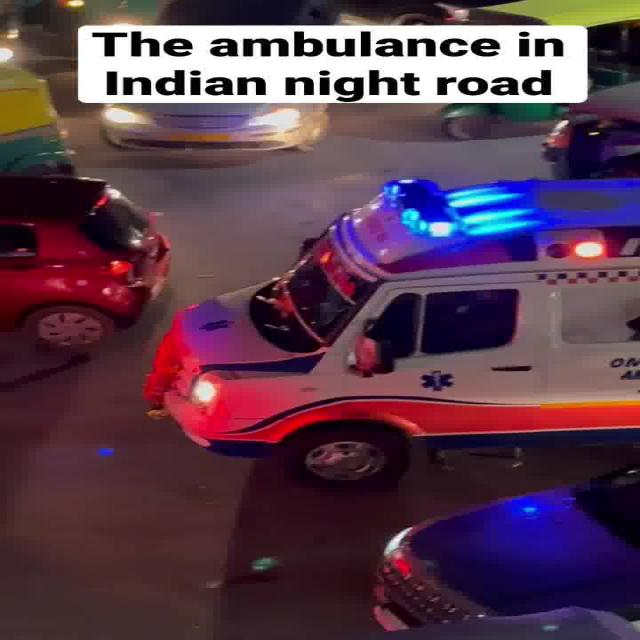ambulance: (158, 164, 640, 467)
